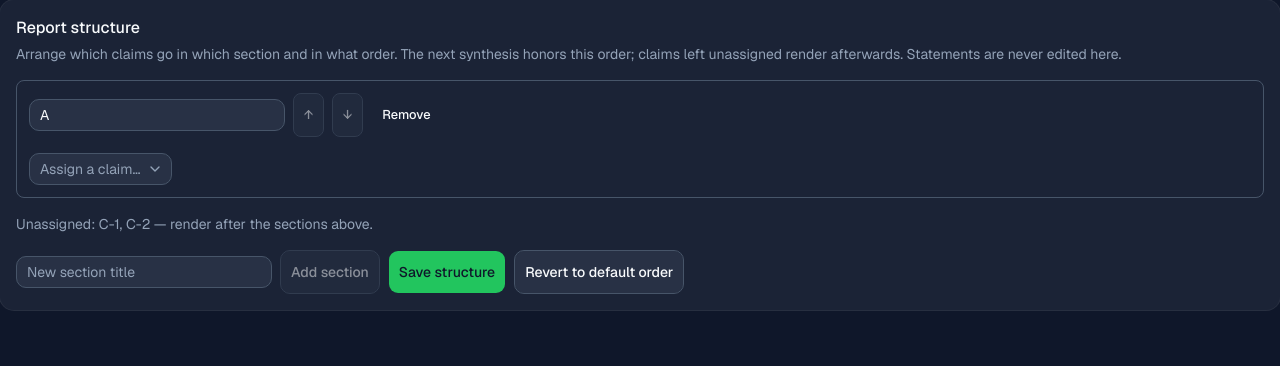
Test: StructureEditor › assigns an unassigned claim via the section select
Expected: the text "Unassigned: C-1, C-2 — render after the sections above." is shown, x1=16 y1=215 x2=372 y2=233
Step 1. Click the dropdown named "Assign claim to A" → [100, 169], box x1=29 y1=153 x2=172 y2=185
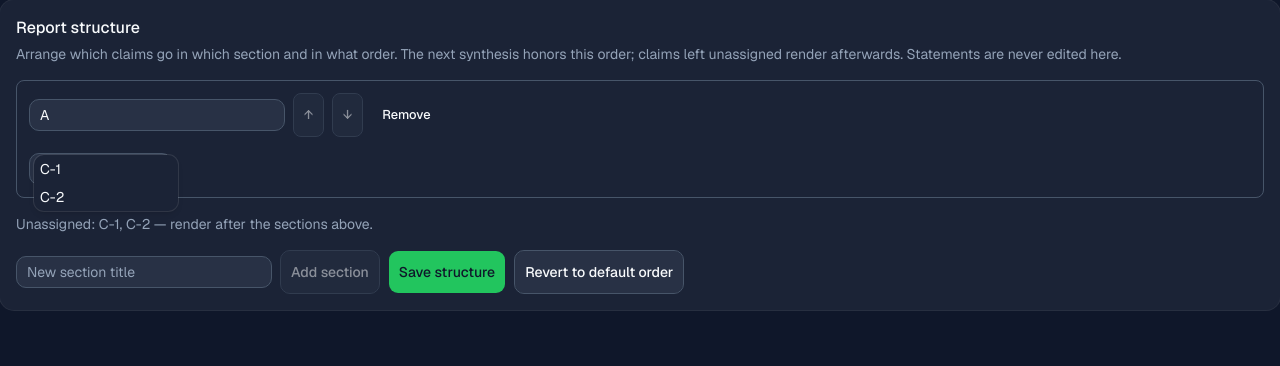
Step 2. Click the option "C-2" → [52, 197], box x1=40 y1=188 x2=64 y2=206
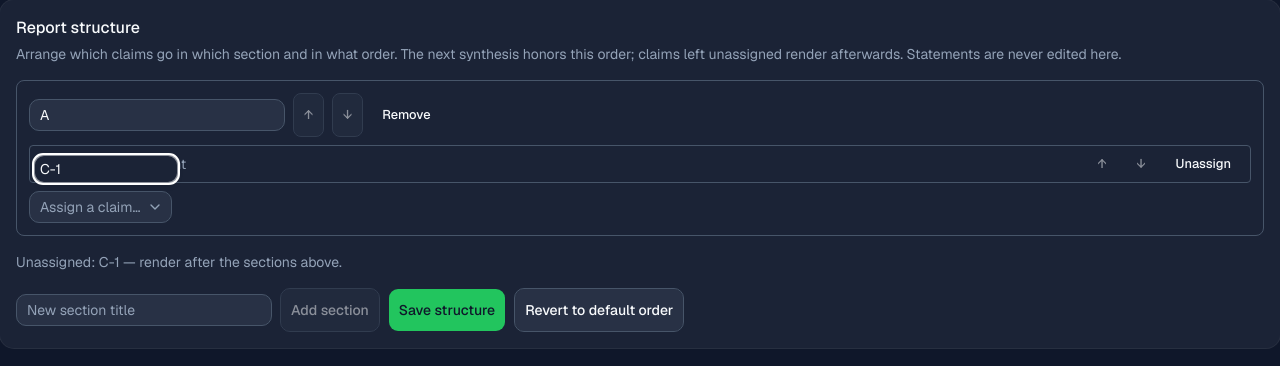
Expected: the text "second statement" is shown, x1=71 y1=155 x2=186 y2=173
Step 3. Click the button "Save structure" → [447, 310], box x1=388 y1=288 x2=506 y2=332
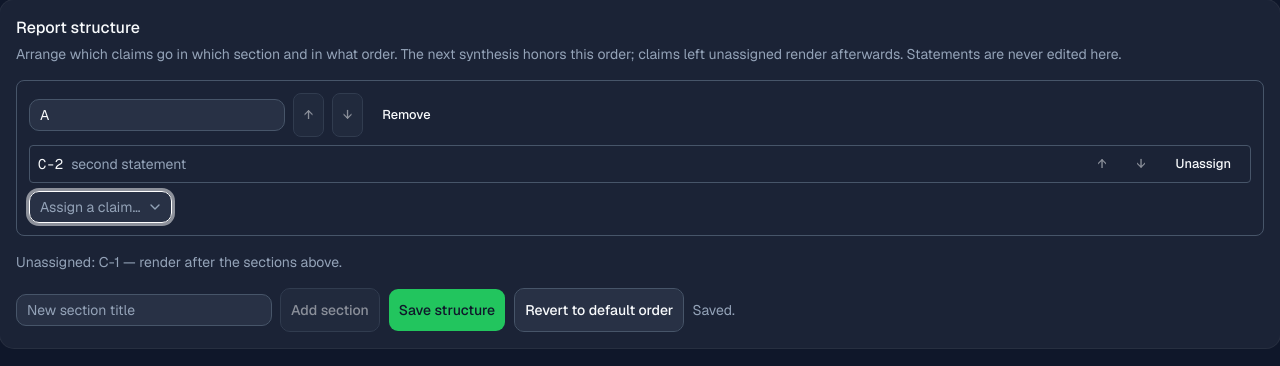
Expected: the text "Saved." is shown, x1=692 y1=300 x2=735 y2=320
